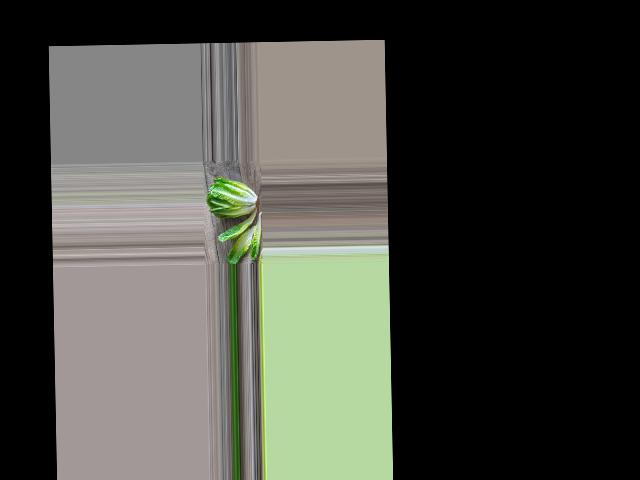lettuce: (206, 175, 256, 220)
